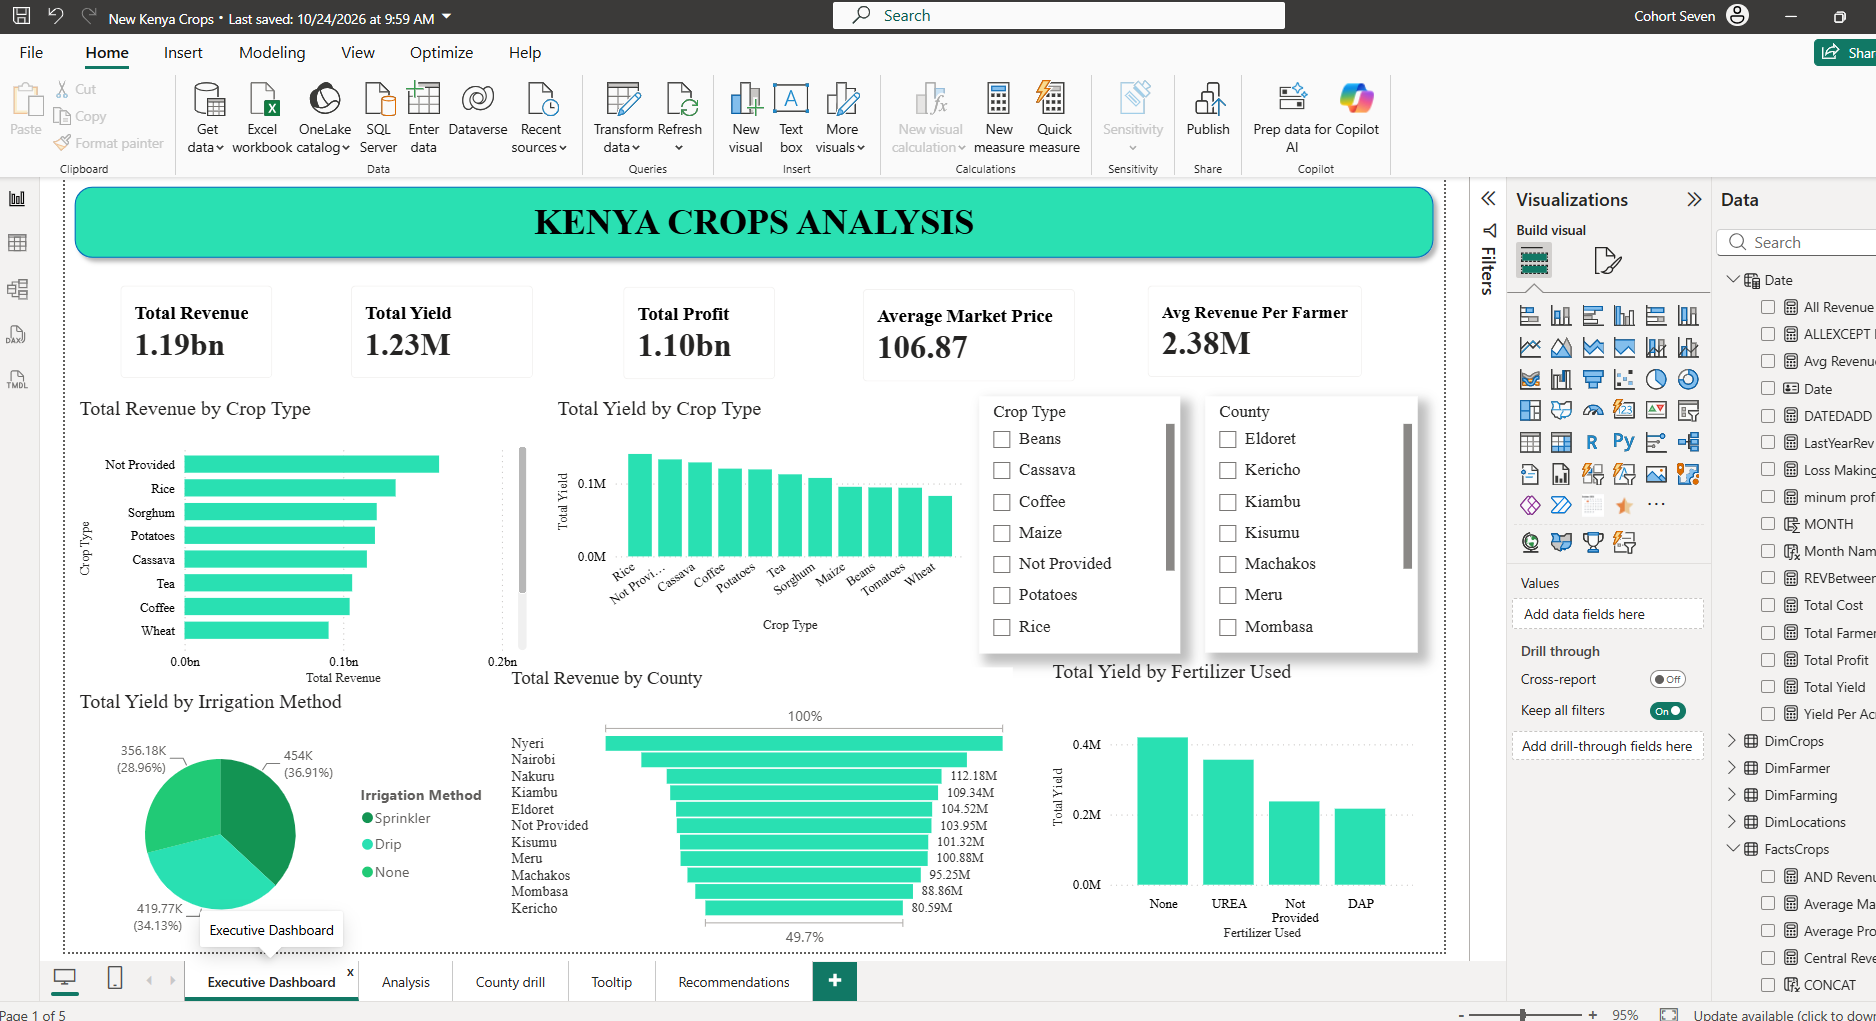

The page's visual inventory and layout, read from the dashboard file:
{"tool":"powerbi","page":{"name":"Executive Dashboard","canvas":[1280,720],"ordinal":0},"visuals":[{"type":"shape","box":[0,0,1279.4,84.1],"z":0},{"type":"cardVisual","fields":{"Data":["FactsCrops.Total Revenue"]},"box":[35,84.1,175.1,120.2],"z":1000},{"type":"cardVisual","fields":{"Data":["Date.Total Yield"]},"box":[248.6,84.1,203.1,120.2],"z":2000},{"type":"cardVisual","fields":{"Data":["Date.Total Profit"]},"box":[502,85.2,175.1,120.2],"z":3000},{"type":"cardVisual","fields":{"Data":["FactsCrops.Average Market Price"]},"box":[723.8,87.6,231.1,120.2],"z":4000},{"type":"cardVisual","fields":{"Data":["Date.Avg Revenue Per Farmer"]},"box":[987.8,84.4,233.5,119.1],"z":5000},{"type":"clusteredBarChart","fields":{"Category":["DimCrops.Crop Type"],"Y":["FactsCrops.Total Revenue"]},"box":[8.2,204.3,424.9,272],"z":6000},{"type":"clusteredColumnChart","fields":{"Category":["DimCrops.Crop Type"],"Y":["Date.Total Yield"]},"box":[451.8,204.3,387.6,223],"z":7000},{"type":"pieChart","fields":{"Category":["DimFarming.Irrigation Method"],"Y":["Date.Total Yield"]},"box":[8.2,476.3,398.1,235.8],"z":8000},{"type":"clusteredColumnChart","fields":{"Category":["DimFarming.Fertilizer Used"],"Y":["Date.Total Yield"]},"box":[911.6,447.9,345.1,265.4],"z":9000},{"type":"slicer","fields":{"Values":["DimCrops.Crop Type"]},"box":[848.9,203.3,186.8,239.3],"z":10000},{"type":"slicer","fields":{"Values":["DimLocations.County"]},"box":[1058.9,203.3,197.3,238.1],"z":11000},{"type":"funnel","fields":{"Category":["DimLocations.County"],"Y":["FactsCrops.Total Revenue"]},"box":[409.1,455.3,471,264.4],"z":12000}]}

Visuals, with their boxes on the page's 1280x720 design canvas (x1, y1, x2, y2). These are canvas units, not pixel positions in the 1876x1021 screenshot, which may show the page scaled, cropped or inside an application window:
shape: 0:0:1279:84
cardVisual - FactsCrops.Total Revenue: 35:84:210:204
cardVisual - Date.Total Yield: 249:84:452:204
cardVisual - Date.Total Profit: 502:85:677:205
cardVisual - FactsCrops.Average Market Price: 724:88:955:208
cardVisual - Date.Avg Revenue Per Farmer: 988:84:1221:204
clusteredBarChart - DimCrops.Crop Type x FactsCrops.Total Revenue: 8:204:433:476
clusteredColumnChart - DimCrops.Crop Type x Date.Total Yield: 452:204:839:427
pieChart - DimFarming.Irrigation Method x Date.Total Yield: 8:476:406:712
clusteredColumnChart - DimFarming.Fertilizer Used x Date.Total Yield: 912:448:1257:713
slicer - DimCrops.Crop Type: 849:203:1036:443
slicer - DimLocations.County: 1059:203:1256:441
funnel - DimLocations.County x FactsCrops.Total Revenue: 409:455:880:720
